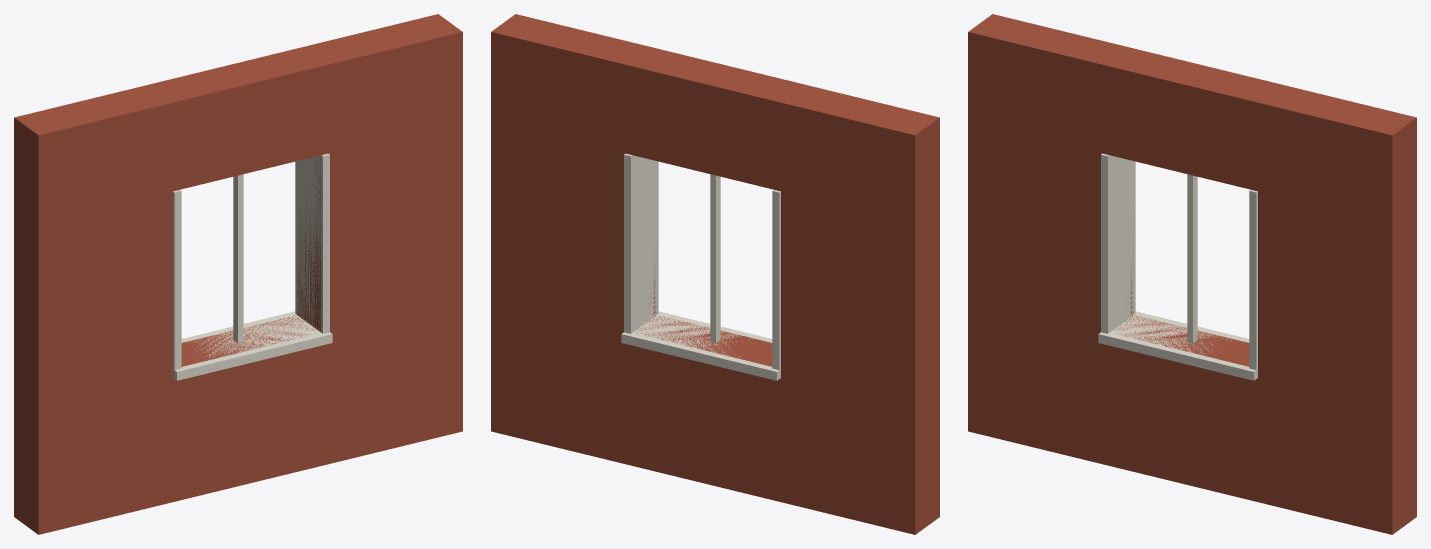
File: GK_Wall_Window_Brick_01.glb
3 views of the same model, side by side, from view 1: azimuth 30°, elevation 25°; view 2: azimuth 150°, elevation 25°; view 3: azimuth 330°, elevation 25° (orthographic).
Parts seen in each view (by area): view 1: GK_Wall_Window_Brick_01; view 2: GK_Wall_Window_Brick_01; view 3: GK_Wall_Window_Brick_01.
Boxes of the visible parts, x1,y1,x2,y2 form: GK_Wall_Window_Brick_01: (14, 14, 462, 534); GK_Wall_Window_Brick_01: (491, 14, 939, 534); GK_Wall_Window_Brick_01: (968, 14, 1416, 534).
Size of the model in its own units: 3 by 2.7 by 0.4.
Materials: 1 (1 with a texture image).
